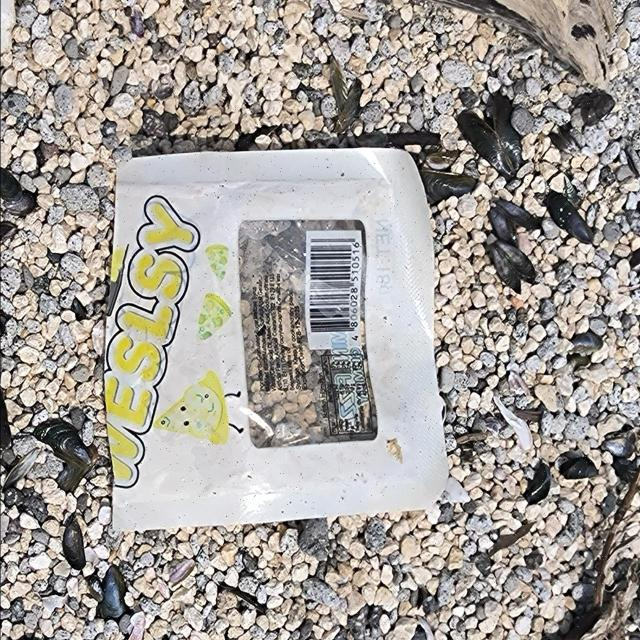plastic_waste: (103, 147, 451, 535)
